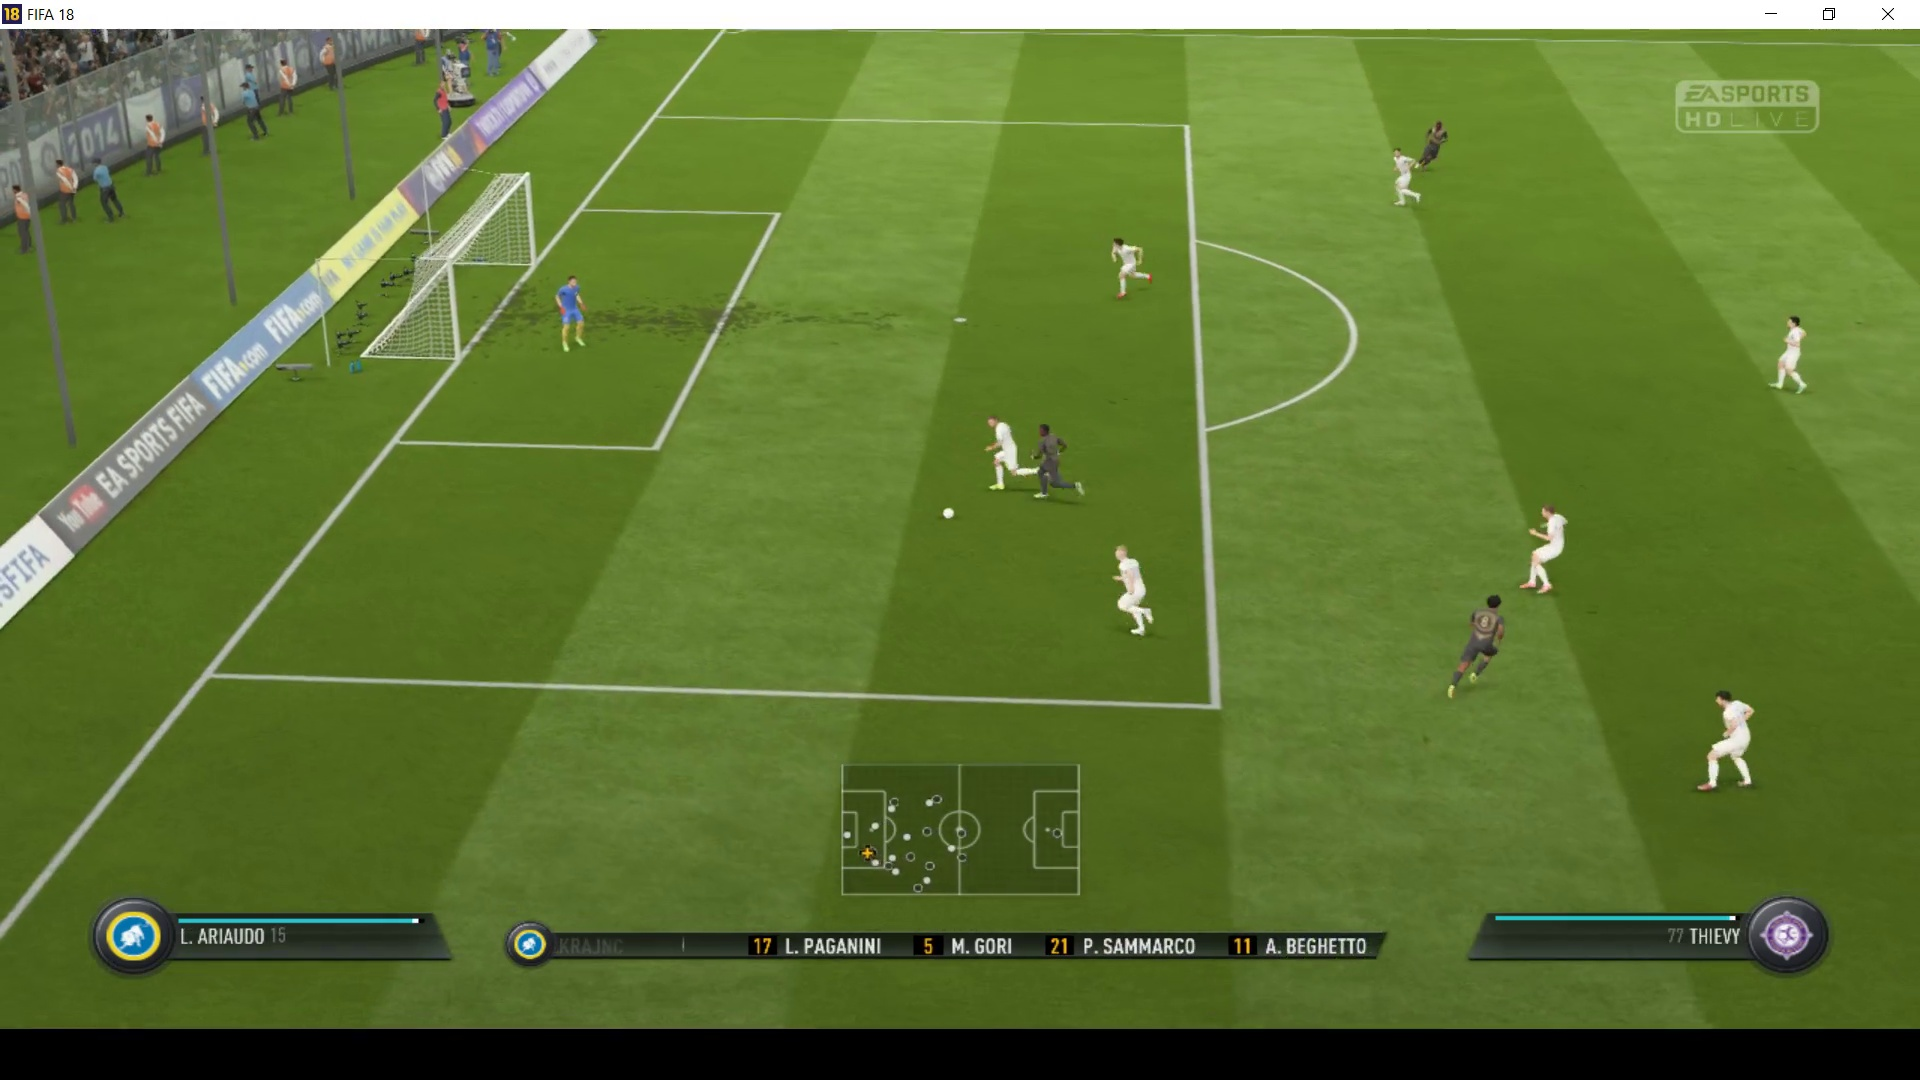ball: (938, 503, 960, 527)
person: (1446, 596, 1507, 703), (1703, 684, 1757, 789), (1520, 496, 1570, 593), (984, 408, 1036, 493), (1108, 544, 1157, 636), (1032, 422, 1086, 500), (1765, 312, 1813, 396), (553, 269, 589, 358), (1108, 234, 1153, 298), (1413, 110, 1450, 170), (1386, 144, 1422, 206)
